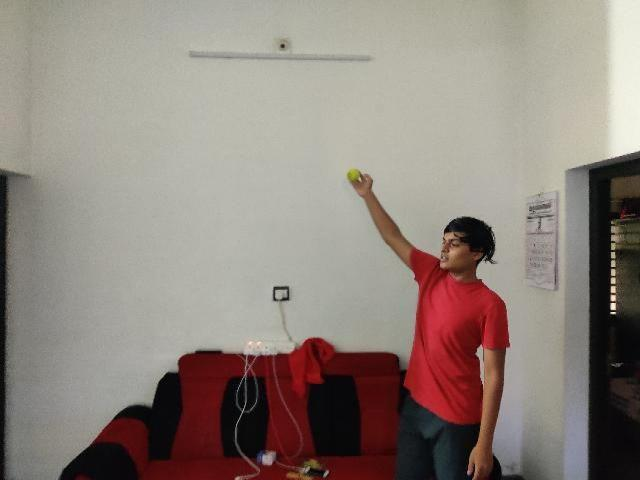tennis-ball: (347, 168, 360, 180)
